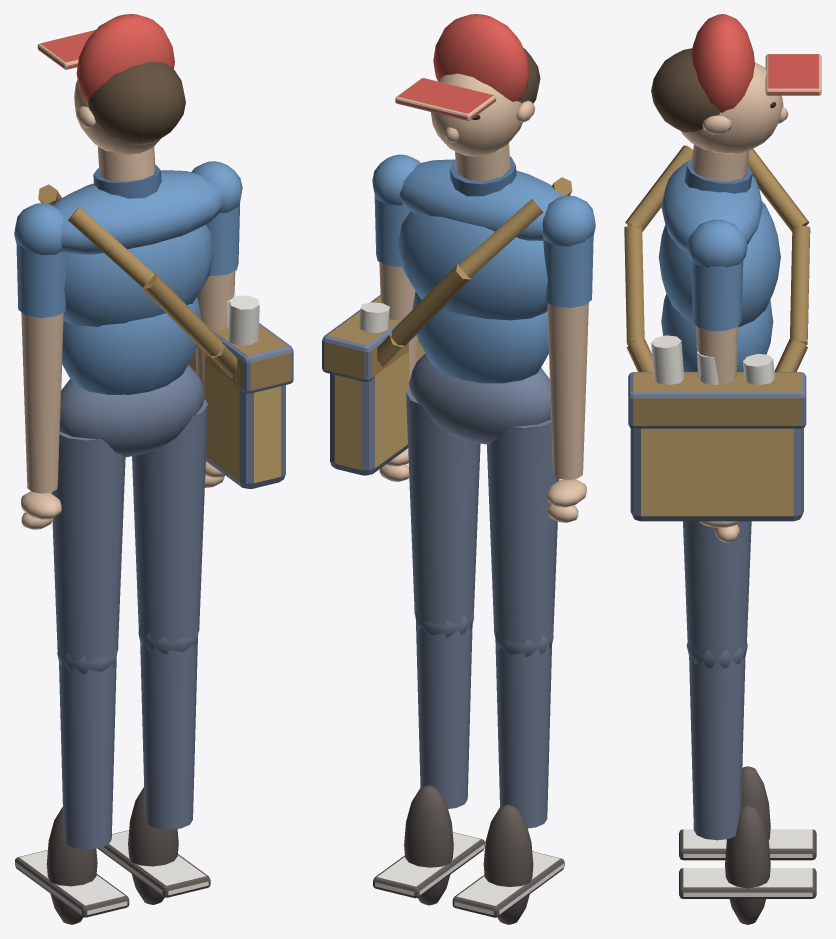
File: rider.glb
3 views of the same model, side by side, from view 1: azimuth 30°, elevation 25°; view 2: azimuth 150°, elevation 25°; view 3: azimuth 270°, elevation 25° (orthographic). The views are drawn at different scales.
Parts seen in each view (by area): view 1: Torso, Head, ThighL, ThighR, ShinR, ShinL, UpperArmL, FootL, FootR, ForearmL, UpperArmR, ForearmR; view 2: Torso, Head, ThighL, ThighR, ShinL, ShinR, UpperArmL, FootL, FootR, ForearmL, UpperArmR, ForearmR; view 3: Torso, Head, ShinR, ThighR, UpperArmR, FootR, FootL, ForearmR.
Boxes of the visible parts, x1,y1,x2,y2 form: Torso: [38, 165, 293, 488]; Head: [37, 14, 185, 181]; ThighL: [51, 432, 125, 662]; ThighR: [132, 399, 207, 642]; ShinR: [138, 626, 199, 829]; ShinL: [57, 646, 118, 849]; UpperArmL: [14, 203, 67, 377]; FootL: [15, 807, 129, 924]; FootR: [98, 787, 210, 904]; ForearmL: [21, 368, 61, 529]; UpperArmR: [191, 161, 242, 330]; ForearmR: [195, 345, 225, 487]; Torso: [322, 156, 572, 475]; Head: [395, 14, 540, 180]; ThighL: [487, 419, 559, 645]; ThighR: [406, 387, 480, 625]; ShinL: [494, 629, 553, 828]; ShinR: [414, 610, 474, 808]; UpperArmL: [542, 195, 595, 365]; FootL: [452, 804, 564, 924]; FootR: [373, 785, 484, 905]; ForearmL: [546, 357, 586, 522]; UpperArmR: [372, 154, 420, 320]; ForearmR: [379, 335, 418, 481]; Torso: [624, 145, 810, 521]; Head: [651, 14, 821, 181]; ShinR: [686, 642, 747, 840]; ThighR: [683, 521, 751, 658]; UpperArmR: [686, 219, 747, 384]; FootR: [679, 805, 816, 924]; FootL: [679, 766, 816, 860]; ForearmR: [699, 521, 740, 542].
Bounding box in the file's own units: 0.5123 × 1.92 × 0.3876.
